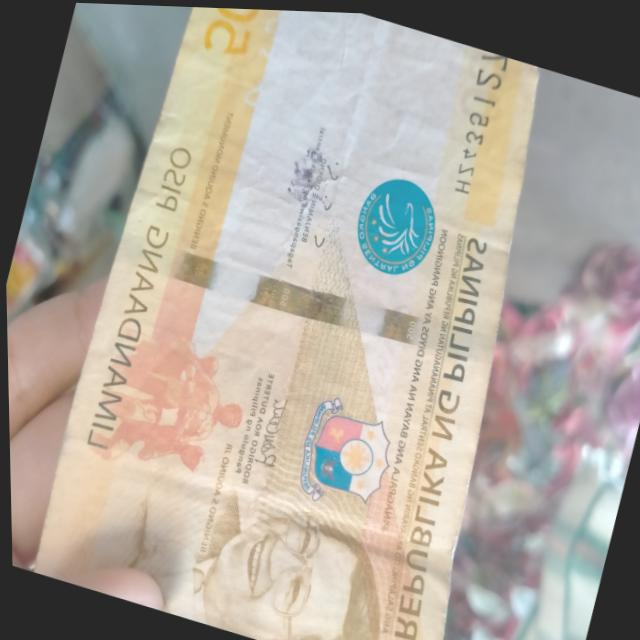security_thread: (105, 225, 494, 377)
serial_number: (425, 41, 527, 228)
watermark: (278, 8, 461, 170)
